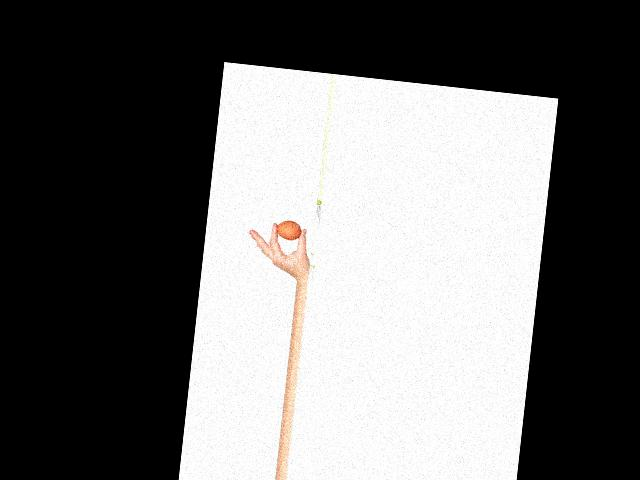egg: (275, 219, 302, 241)
